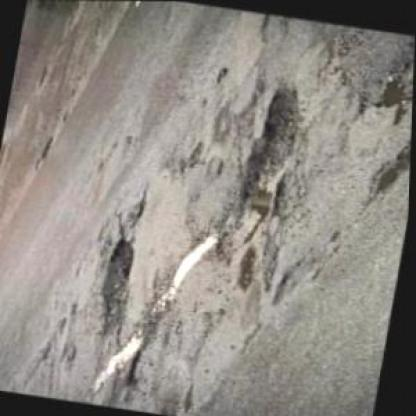pothole: (206, 78, 310, 272), (93, 232, 144, 340), (366, 122, 411, 204), (370, 55, 413, 129)
